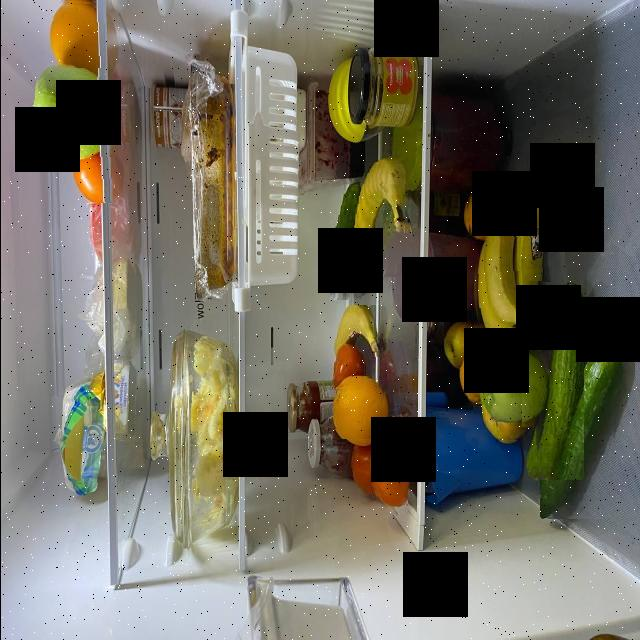Apple: (30, 66, 102, 166), (475, 340, 541, 428), (482, 394, 522, 442), (443, 321, 479, 371)
Banana: (469, 156, 552, 354), (355, 156, 414, 278), (332, 306, 384, 360)
Cucumber: (540, 346, 618, 520), (528, 281, 584, 480), (330, 179, 361, 301)
Orange: (47, 0, 106, 68), (333, 376, 385, 446), (465, 180, 496, 242), (459, 344, 485, 404)
Tomato: (367, 442, 408, 516), (63, 145, 114, 203), (342, 439, 377, 501), (332, 344, 367, 389)
